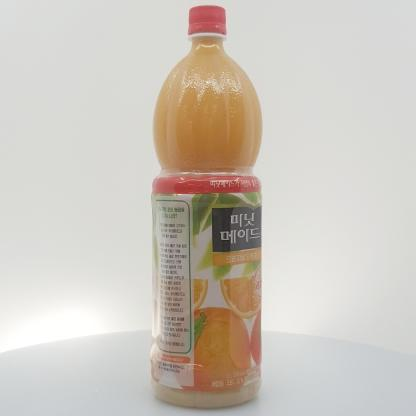------------1-5L: (150, 5, 263, 408)
